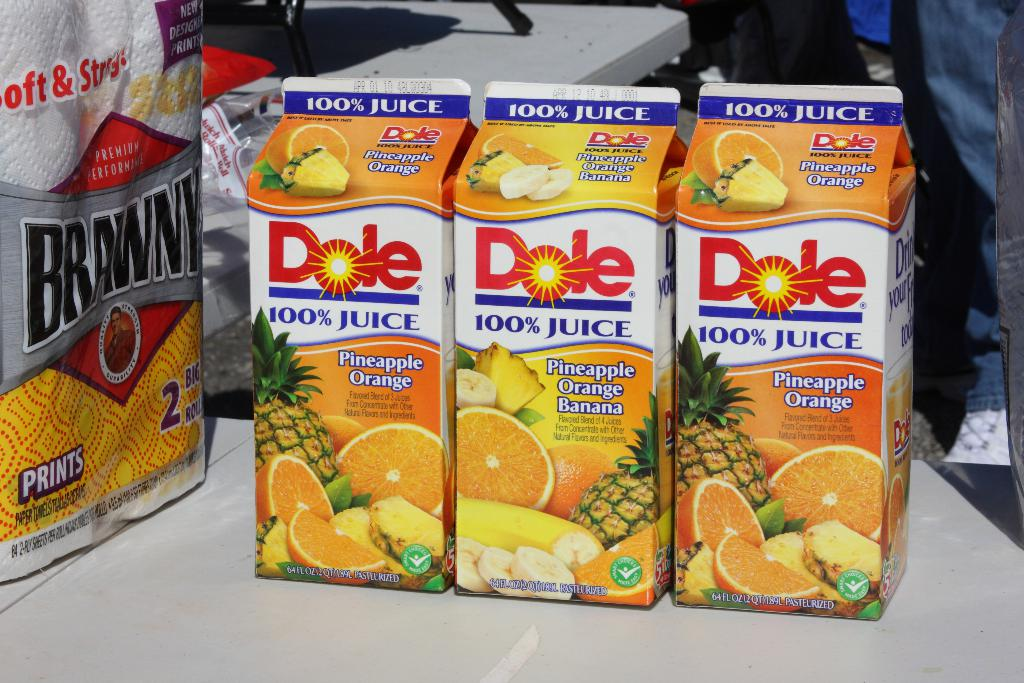Ripe: (759, 449, 888, 540), (455, 406, 557, 504), (707, 538, 826, 604), (332, 436, 435, 506), (685, 469, 764, 559), (285, 509, 384, 573), (254, 457, 337, 525), (582, 533, 660, 604)
